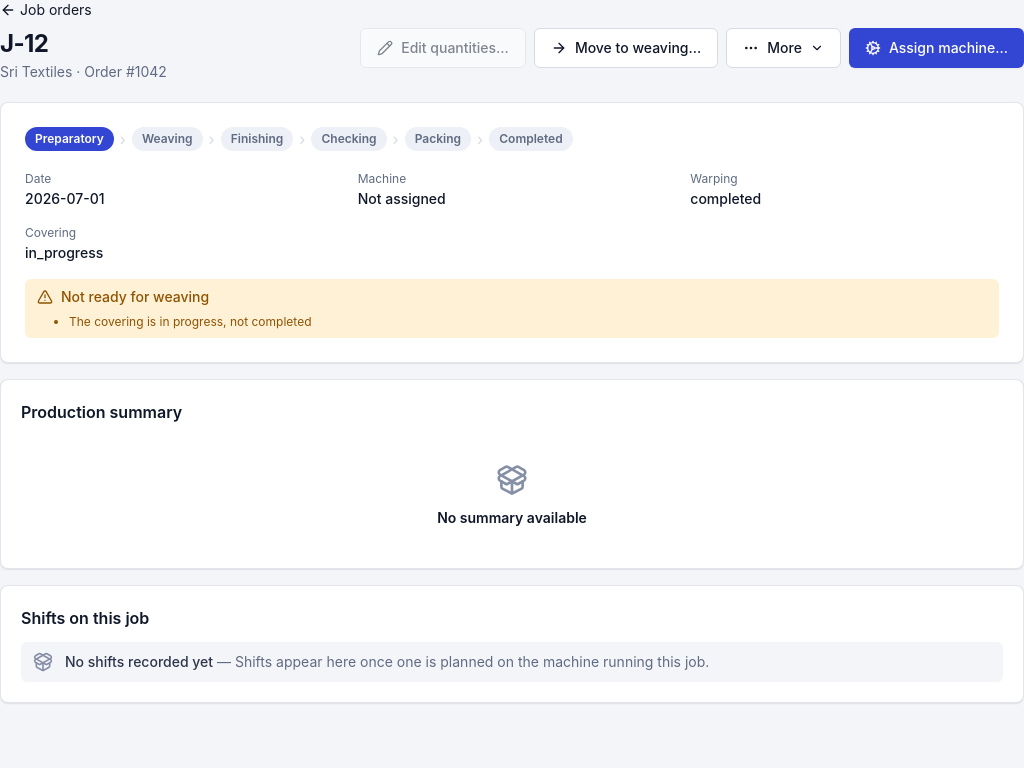
Test case: moving a preparatory job to weaving › raises an alert listing every blocker when the server refuses
Step 1. Click the button "Move to weaving…" → click(626, 48), box top-left (534, 28), bottom-right (718, 68)
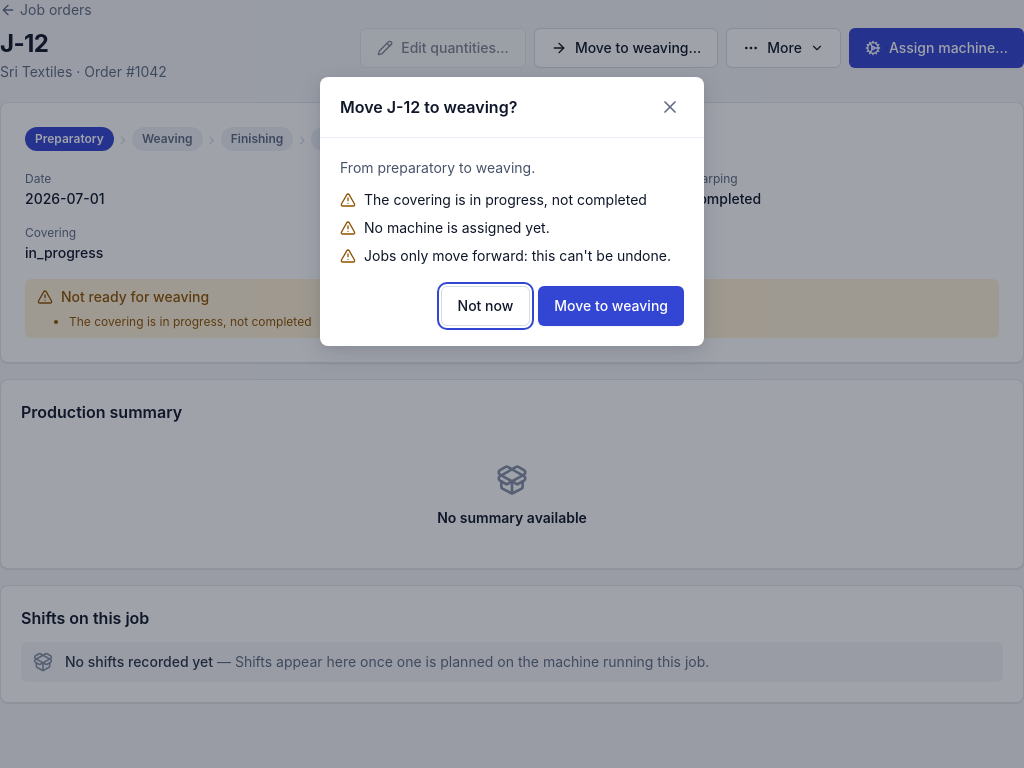
Step 2. Click the button "Move to weaving" → click(611, 306), box top-left (538, 286), bottom-right (684, 326)
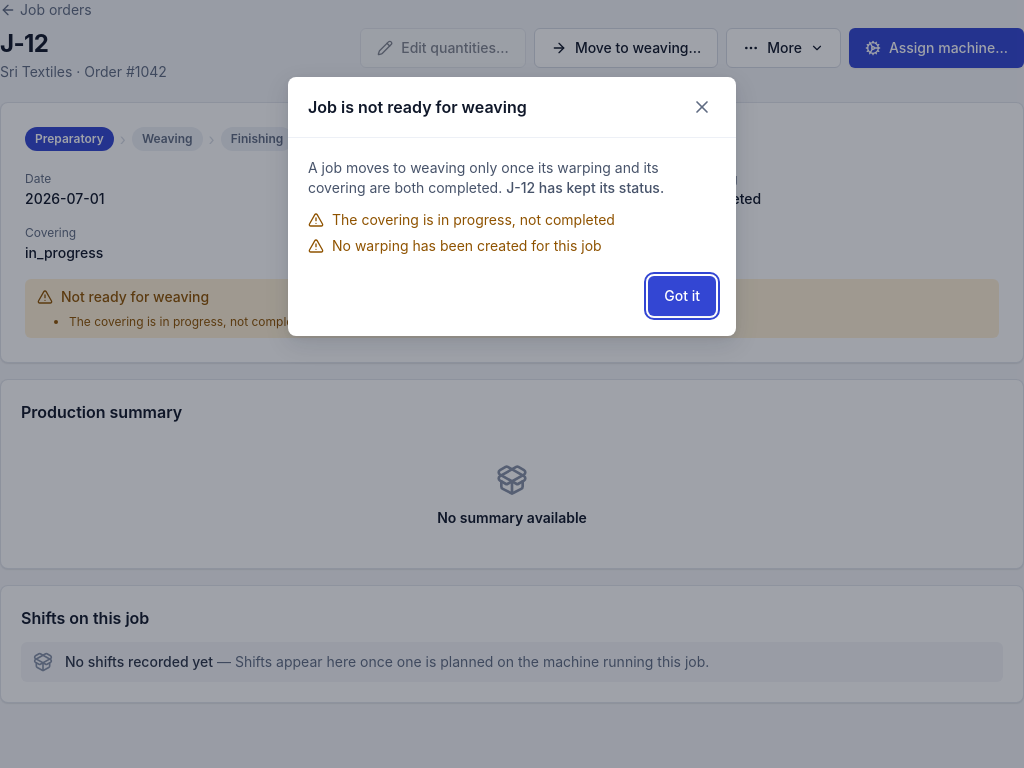
expect the dialog shows "not ready for weaving": met, box top-left (308, 97), bottom-right (527, 117)
expect the dialog shows "No warping has been created": met, box top-left (332, 237), bottom-right (602, 254)
expect the dialog shows "has kept its status": met, box top-left (535, 179), bottom-right (664, 196)
